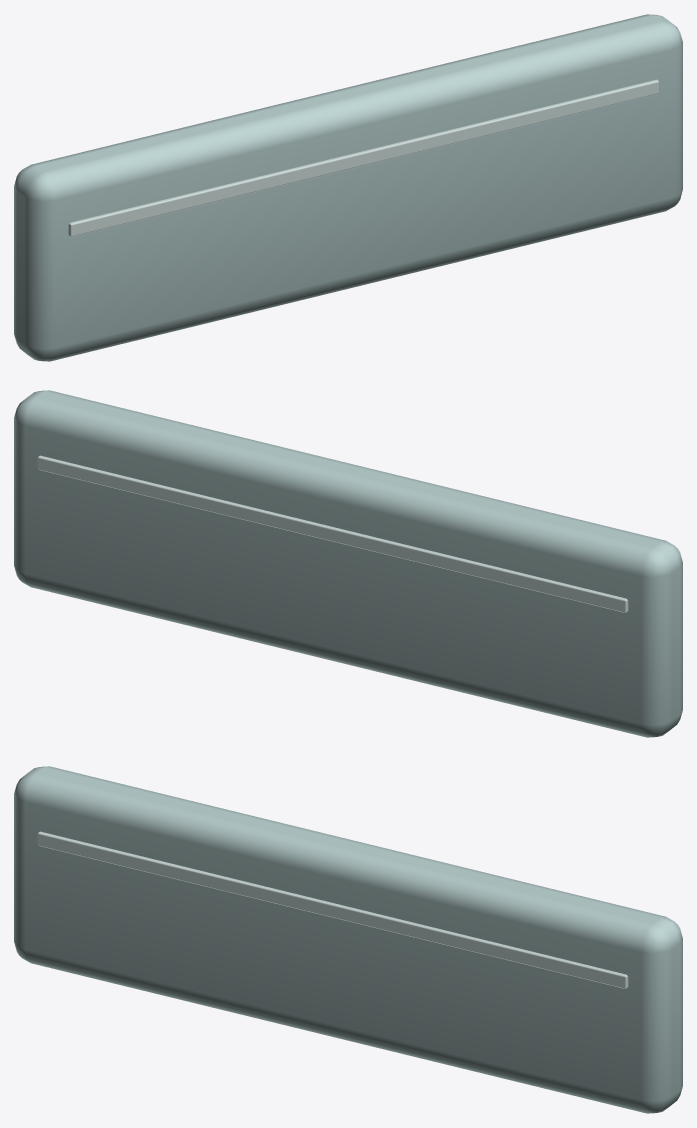
Rendered from rail.glb.
3 renders of one model, top to bottom at view 1: azimuth 30°, elevation 25°; view 2: azimuth 150°, elevation 25°; view 3: azimuth 330°, elevation 25°, orthographic.
Visible parts, largest first — view 1: rail; view 2: rail; view 3: rail.
Part boxes in pixels (left/top/right/bottom): rail: left=14, top=14, right=682, bottom=361; rail: left=14, top=390, right=682, bottom=737; rail: left=14, top=766, right=682, bottom=1113.
Bounding box in the file's own units: 4 × 1.1 × 0.36.
